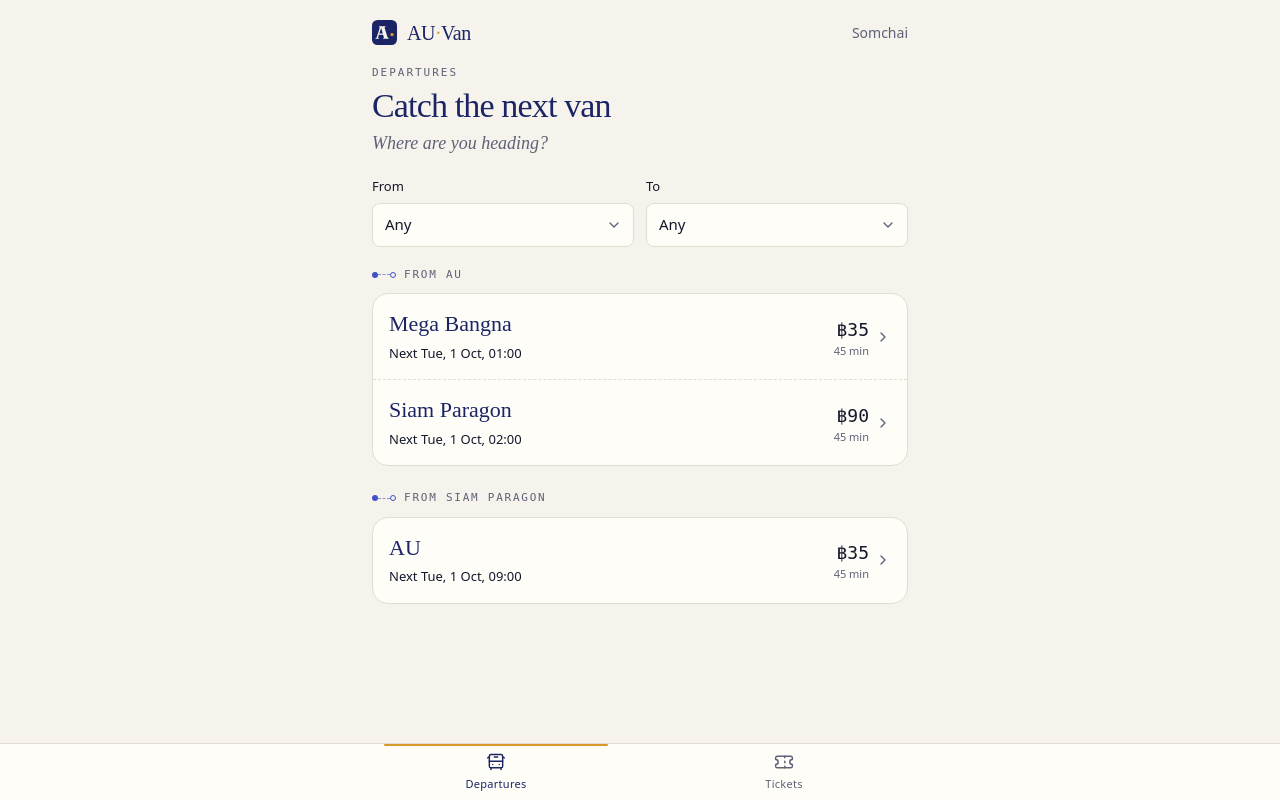
Student picks a route first › narrows routes and origins to the chosen destination
Check: the element named "Routes" is shown, box [372,267,908,604]
Step 1. Click the button named "To Any" → click(672, 224), box [646,203,908,247]
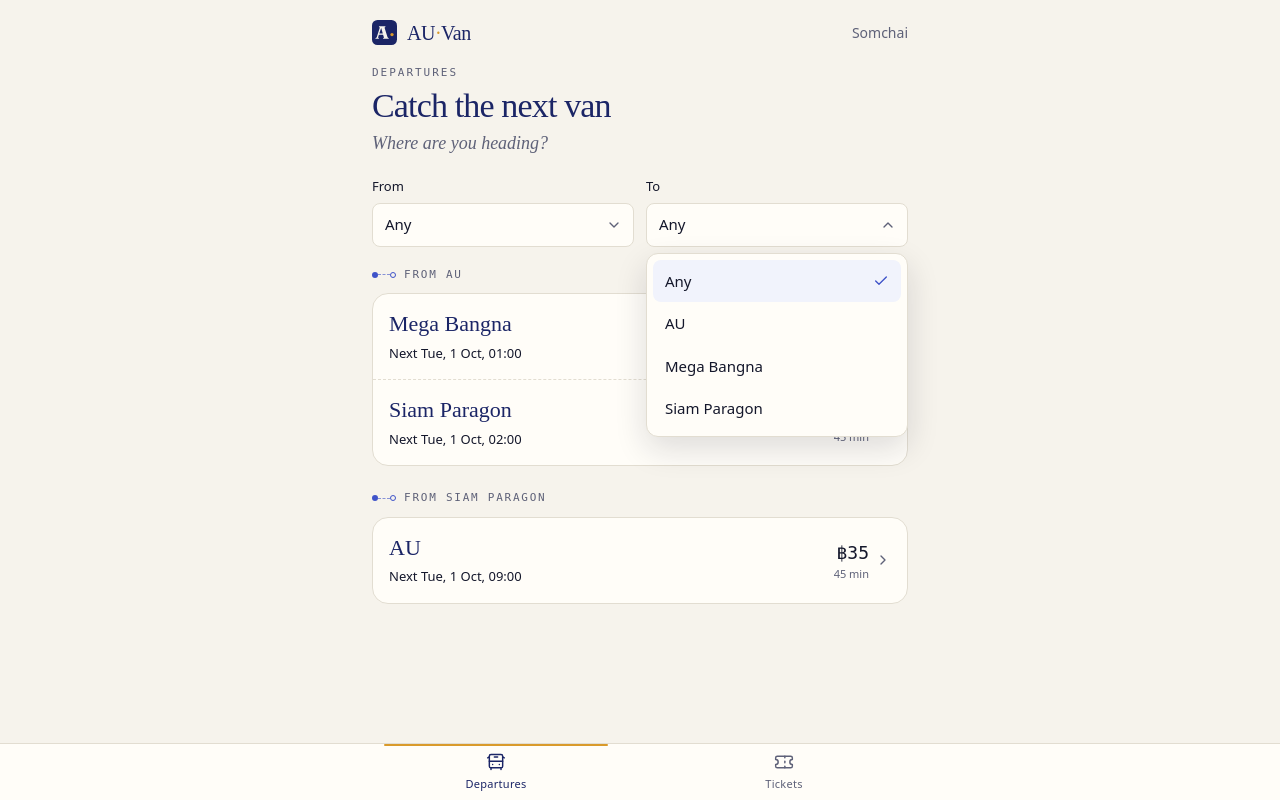
Step 2. Click the option "Siam Paragon" → click(714, 408), box [665,398,763,418]
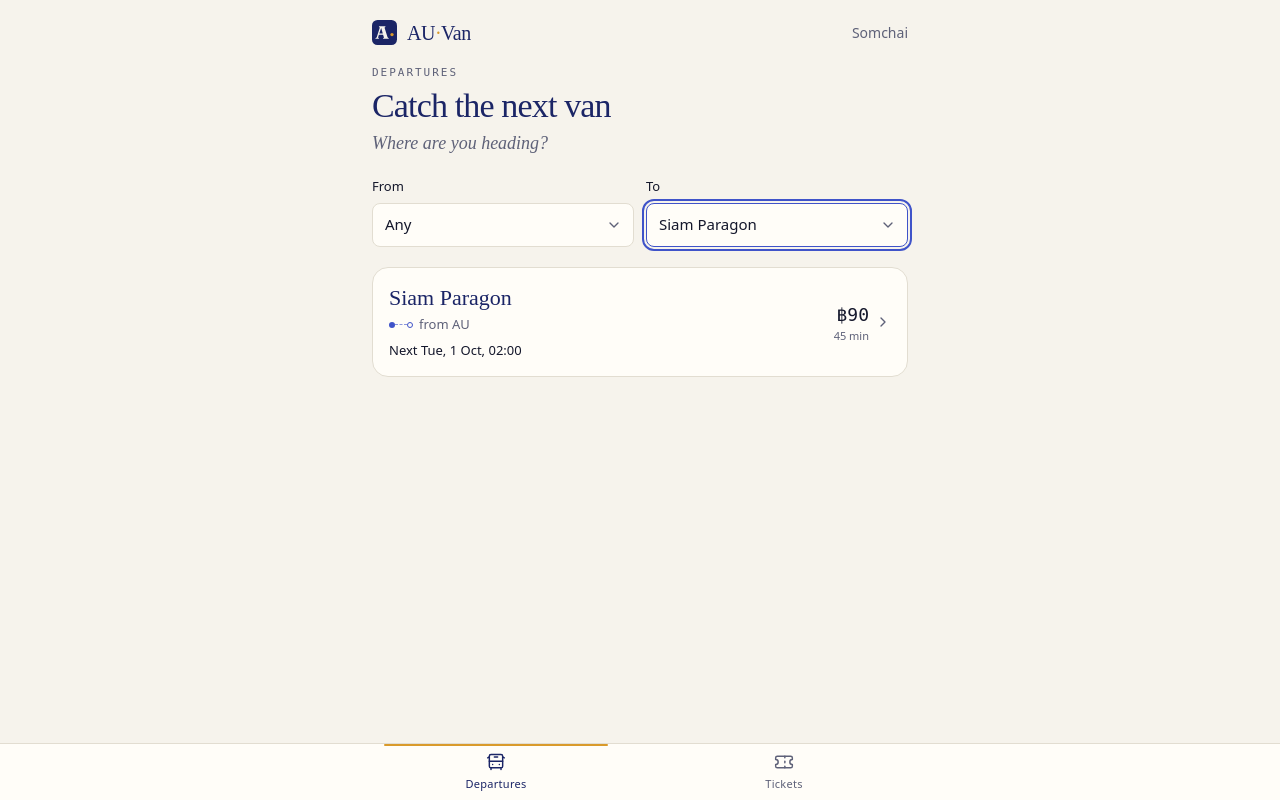
Step 3. Click the button named "From Any" → click(398, 224), box [372,203,634,247]
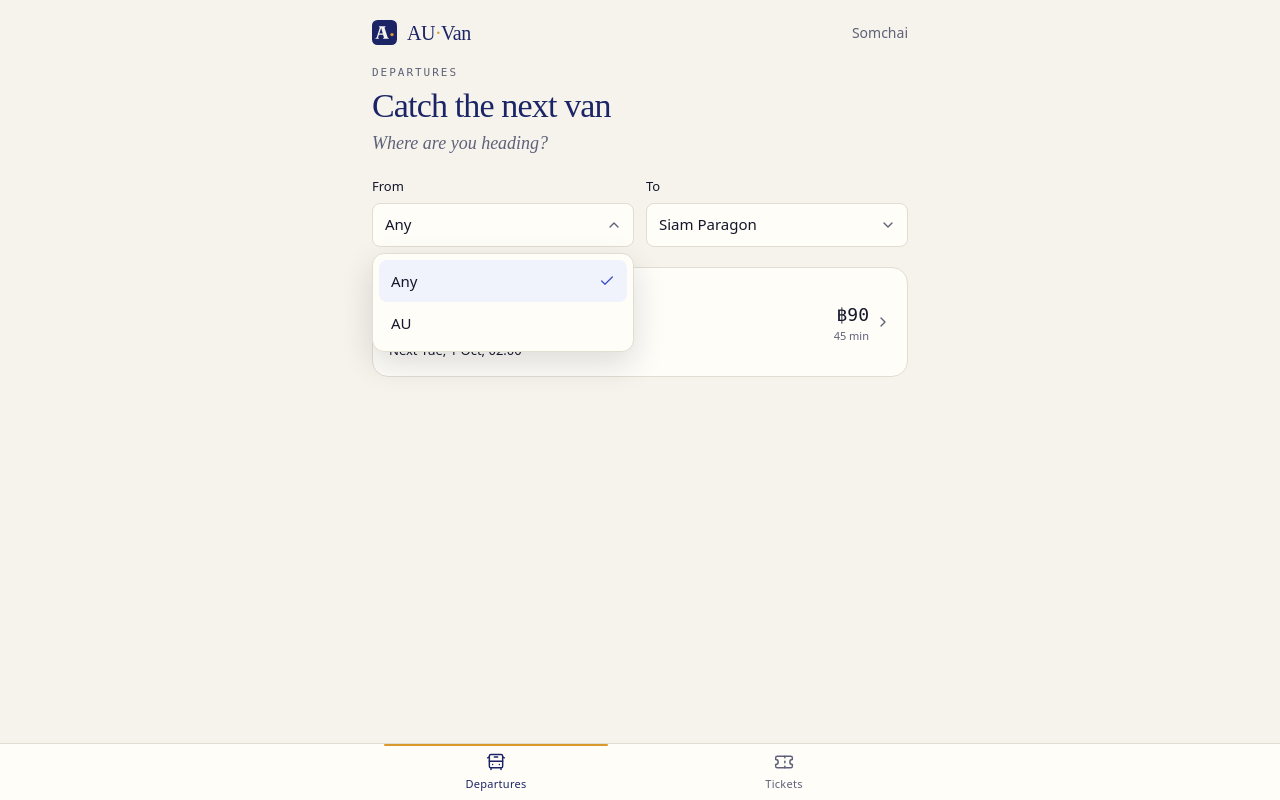
Check: the options read "Any", "AU", in this order, box [379,260,627,302]; [391,313,412,333]
